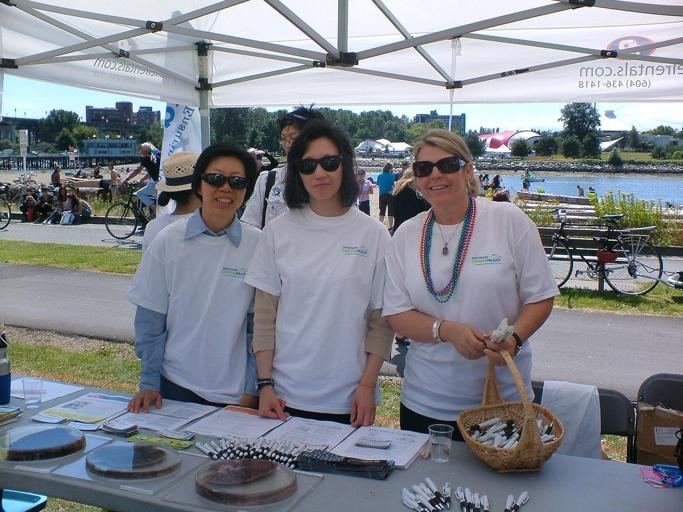non-vehicle: (540, 204, 664, 296), (103, 182, 155, 238), (0, 191, 12, 230)
